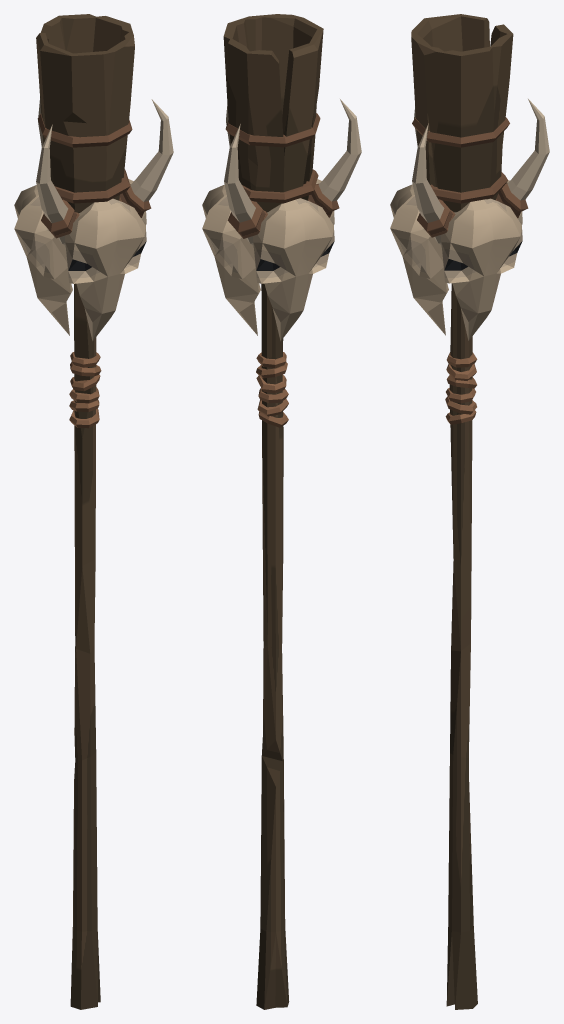
Rendered from SM_Prop_Tiki_Torch_01.glb.
The picture shows the model from 3 angles, left to right: view 1: azimuth 30°, elevation 25°; view 2: azimuth 150°, elevation 25°; view 3: azimuth 270°, elevation 25°; orthographic projection.
Visible parts, largest first — view 1: SM_Prop_Tiki_Torch_01; view 2: SM_Prop_Tiki_Torch_01; view 3: SM_Prop_Tiki_Torch_01.
Boxes of the visible parts, x1,y1,x2,y2 form: SM_Prop_Tiki_Torch_01: [14, 14, 173, 1009]; SM_Prop_Tiki_Torch_01: [202, 14, 361, 1009]; SM_Prop_Tiki_Torch_01: [390, 14, 549, 1009].
Bounding box in the file's own units: 0.3203 × 2.23 × 0.3323.
1 material, 1 textured.
